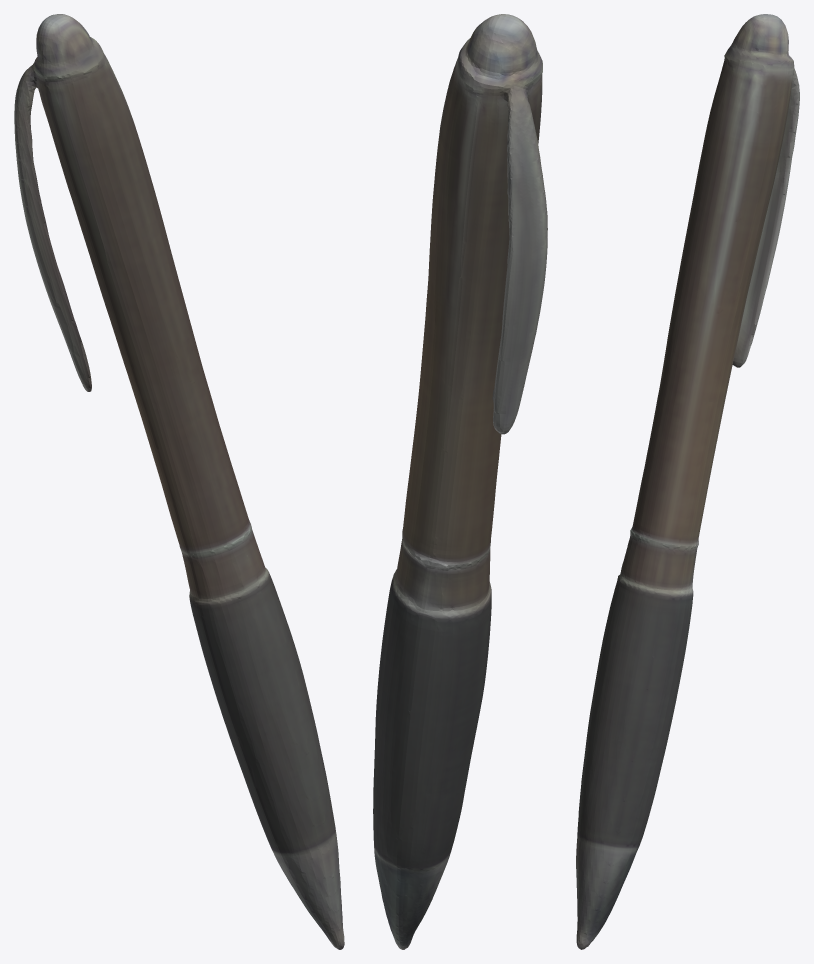
The model's file is frame_0045_source_000045_object.glb.
3 views of the same model, side by side, from view 1: azimuth 30°, elevation 25°; view 2: azimuth 150°, elevation 25°; view 3: azimuth 270°, elevation 25° (orthographic). The views are drawn at different scales.
Visible parts, largest first — view 1: world; view 2: world; view 3: world.
Part boxes in pixels (bbox=[...]): world: bbox=[14, 14, 344, 949]; world: bbox=[373, 14, 547, 949]; world: bbox=[576, 14, 799, 949].
Bounding box in the file's own units: 0.0484 × 0.1845 × 0.0441.
